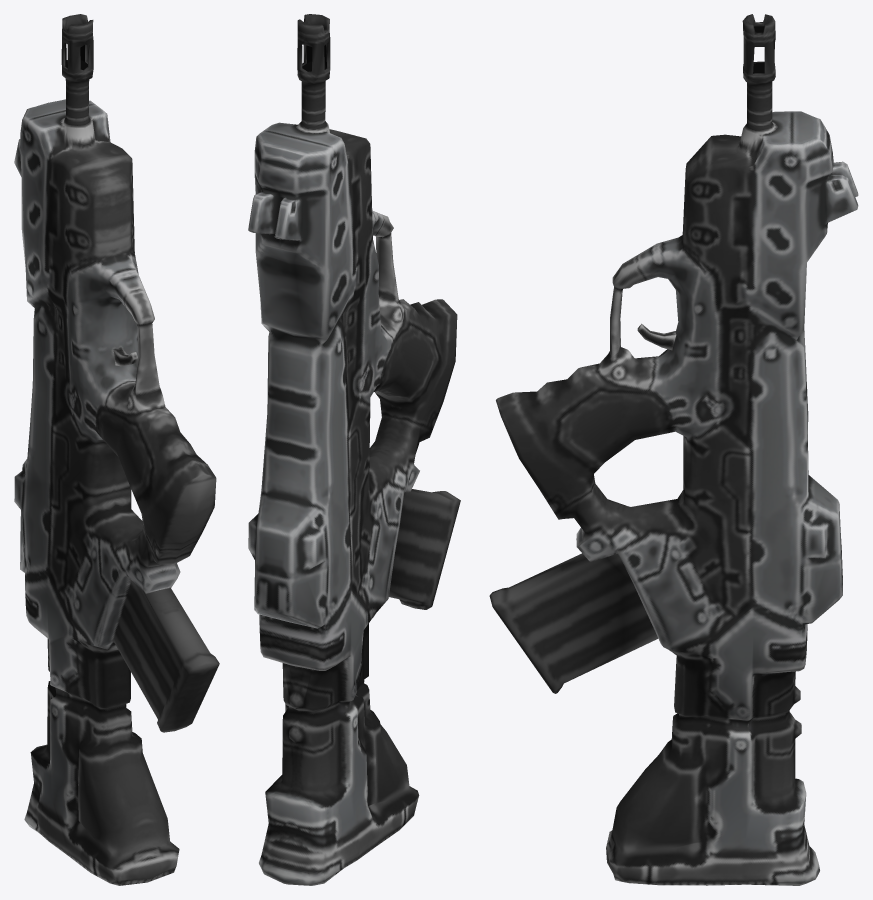
The model's file is gun.FBX.
The picture shows the model from 3 angles, left to right: view 1: azimuth 30°, elevation 25°; view 2: azimuth 150°, elevation 25°; view 3: azimuth 270°, elevation 25°; orthographic projection. The views are drawn at different scales.
Visible parts, largest first — view 1: gun; view 2: gun; view 3: gun.
Boxes of the visible parts, x1,y1,x2,y2 form: gun: [14, 14, 219, 885]; gun: [248, 14, 460, 885]; gun: [489, 14, 858, 885].
Size of the model in its own units: 9.29 by 38.32 by 98.09.
